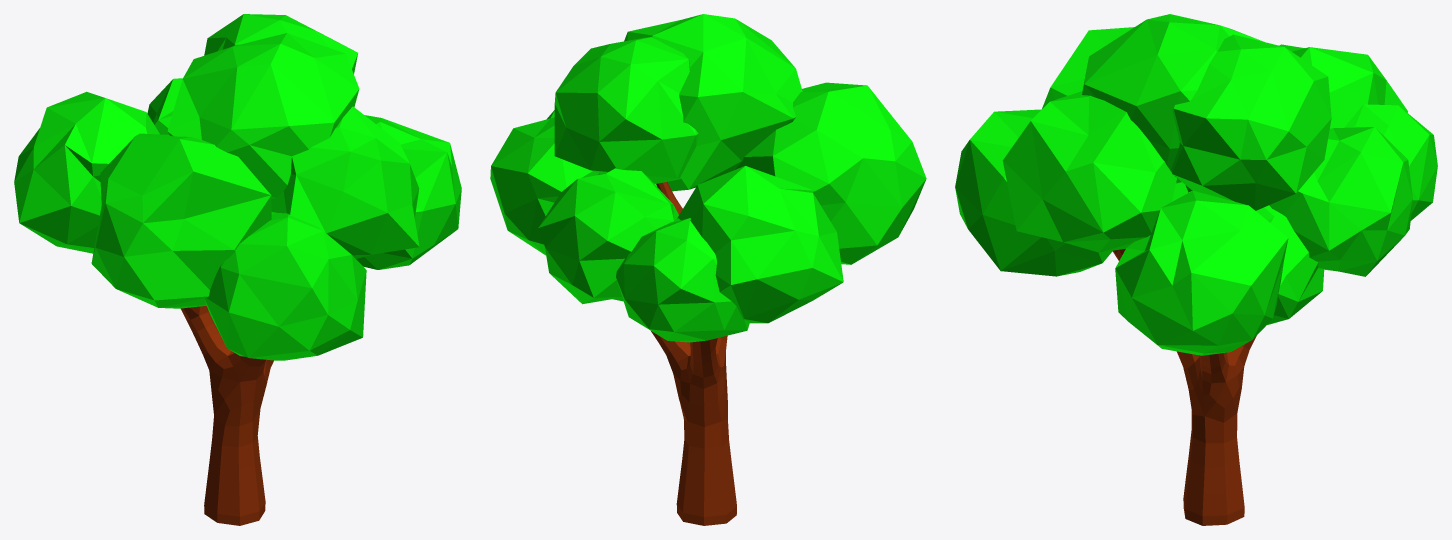
File: Tree.obj
3 views of the same model, side by side, from view 1: azimuth 30°, elevation 25°; view 2: azimuth 150°, elevation 25°; view 3: azimuth 270°, elevation 25° (orthographic). The views are drawn at different scales.
Visible parts, largest first — view 1: Плоскость.018_Плоскость.003; view 2: Плоскость.018_Плоскость.003; view 3: Плоскость.018_Плоскость.003.
Boxes of the visible parts, x1,y1,x2,y2 form: Плоскость.018_Плоскость.003: [14, 14, 461, 525]; Плоскость.018_Плоскость.003: [490, 14, 926, 525]; Плоскость.018_Плоскость.003: [955, 14, 1437, 525].
Size of the model in its own units: 4.92 by 5.76 by 4.98.
